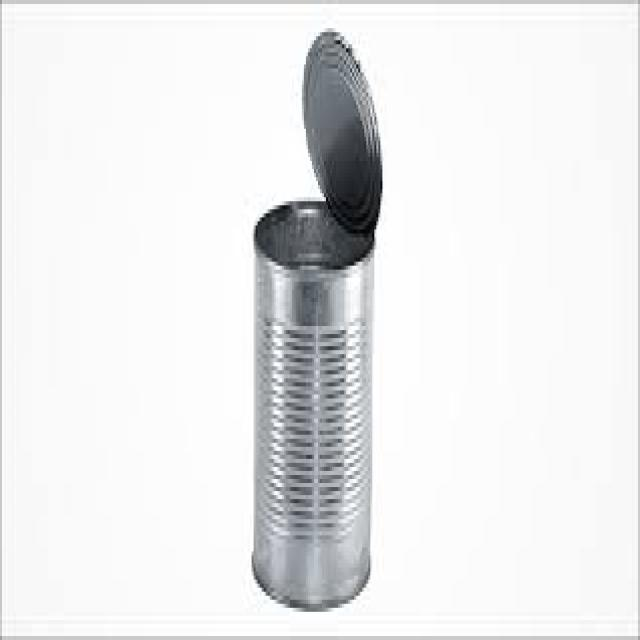metal: (252, 20, 383, 596), (250, 189, 375, 608), (302, 24, 382, 242)
